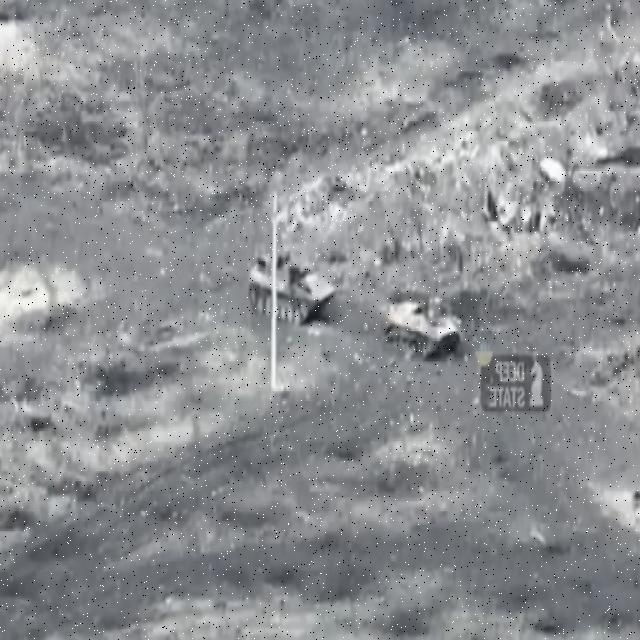APC-IFV: (246, 249, 336, 331), (388, 280, 464, 362)
